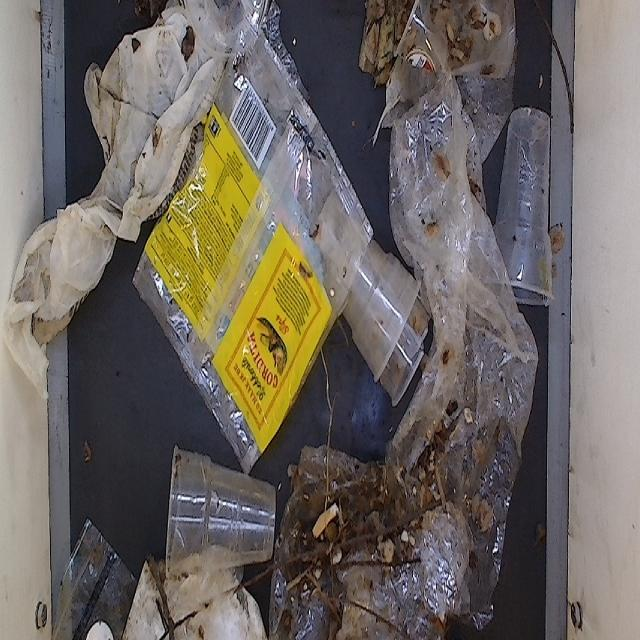food_packaging: (131, 536, 272, 640)
food_wrapping: (0, 0, 241, 356)
plastic_cups: (151, 423, 286, 586), (501, 85, 574, 318), (374, 0, 534, 103)
plastic_films: (268, 0, 547, 640), (138, 31, 372, 468), (44, 529, 144, 640)
